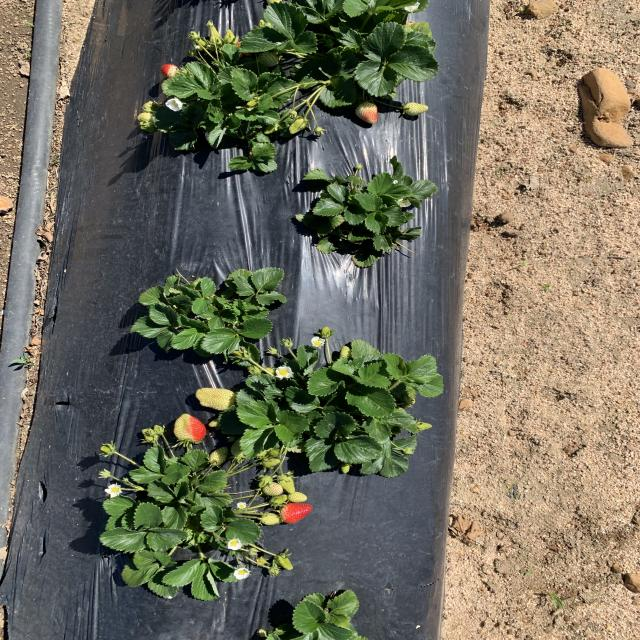unripe: (275, 501, 315, 524), (162, 63, 180, 77)
